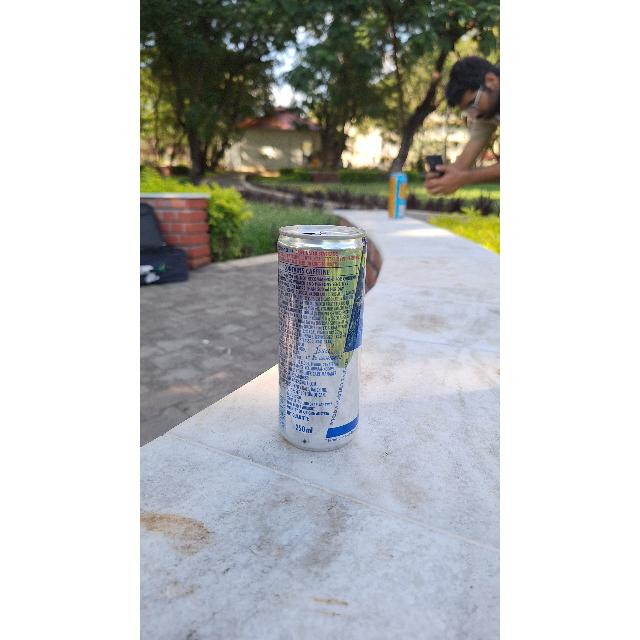Monster Mango Loco: (388, 174, 408, 216)
Redbull: (277, 227, 361, 448)
